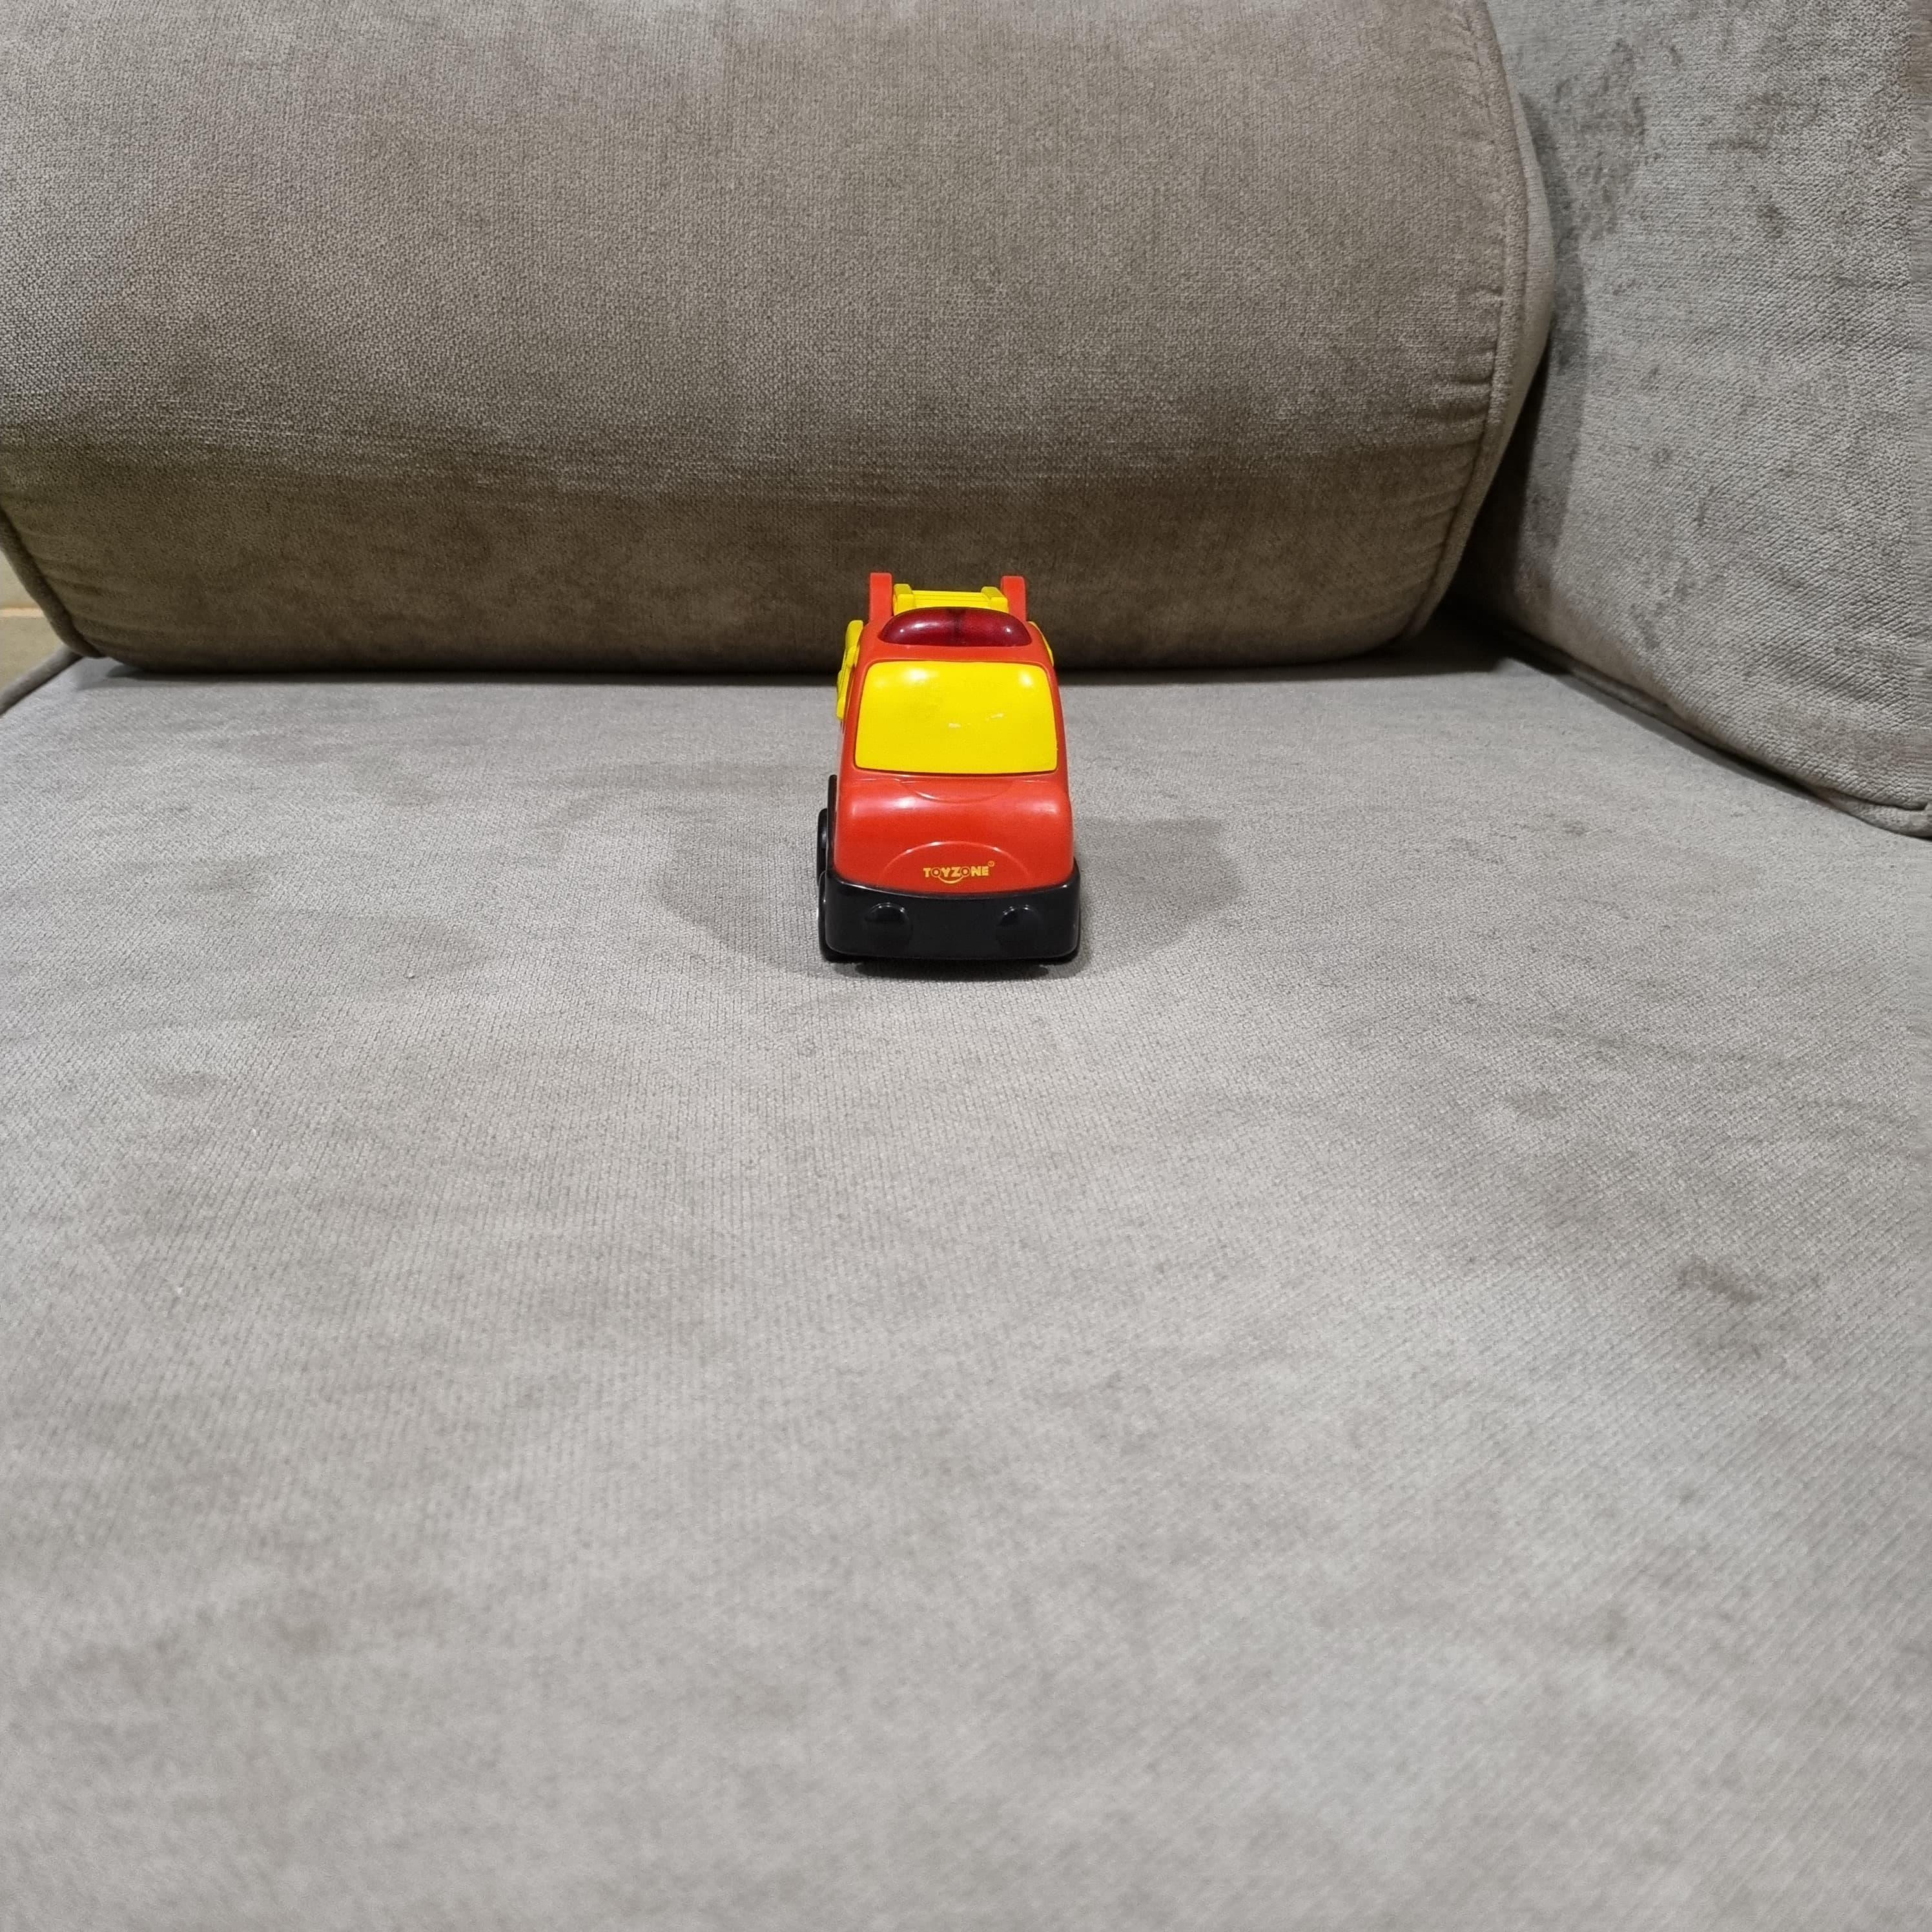firetruck_off: (816, 570, 1083, 973)
